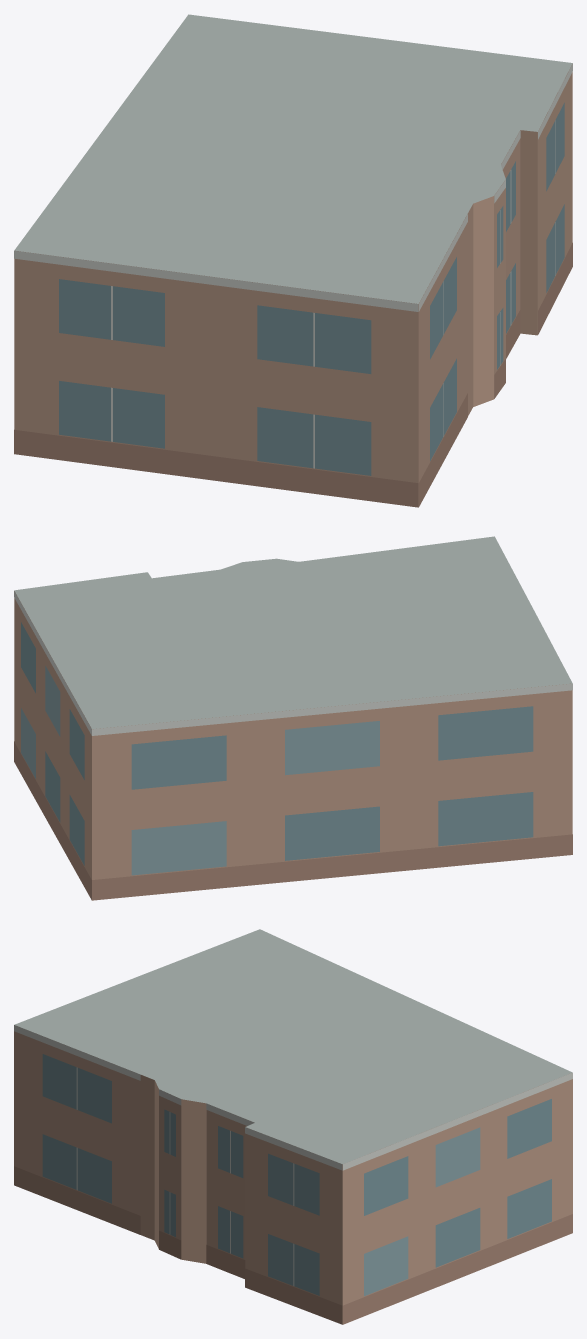
File: survey-upis-33035708.glb
3 renders of one model, top to bottom at view 1: azimuth 30°, elevation 25°; view 2: azimuth 150°, elevation 25°; view 3: azimuth 270°, elevation 25°, orthographic. The views are drawn at different scales.
Visible parts, largest first — view 1: survey-upis-33035708.tmp; view 2: survey-upis-33035708.tmp; view 3: survey-upis-33035708.tmp.
Part boxes in pixels (left/top/right/bottom): survey-upis-33035708.tmp: left=14, top=14, right=572, bottom=507; survey-upis-33035708.tmp: left=14, top=536, right=572, bottom=900; survey-upis-33035708.tmp: left=14, top=929, right=572, bottom=1324.
Size of the model in its own units: 19.18 by 6.1 by 19.25.
